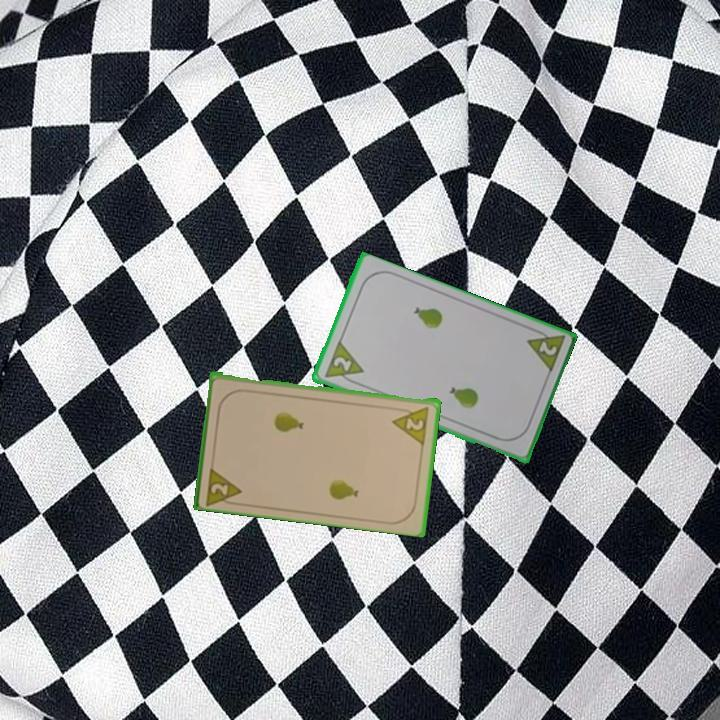2p: (523, 324, 567, 376), (320, 339, 366, 388), (203, 462, 245, 508), (389, 403, 432, 446)
